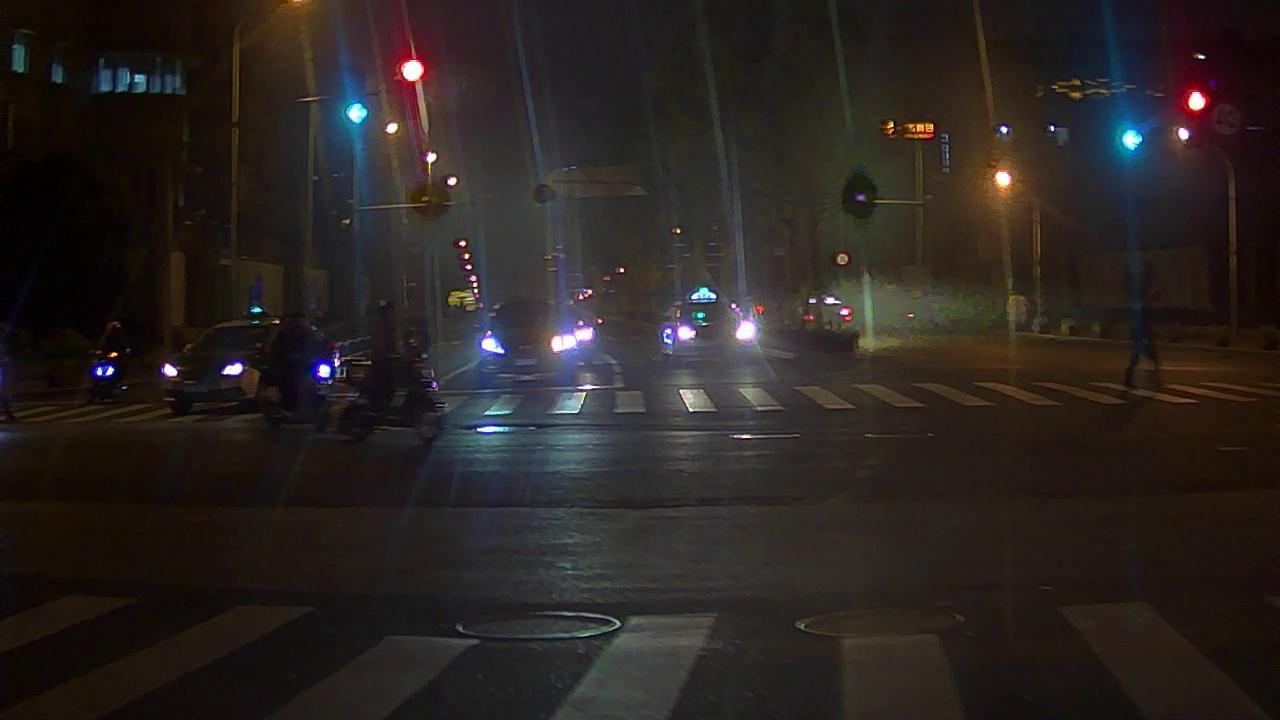traffic_light: (401, 59, 425, 84), (344, 102, 370, 124), (1121, 130, 1144, 149), (1187, 93, 1209, 111), (998, 173, 1011, 187)
